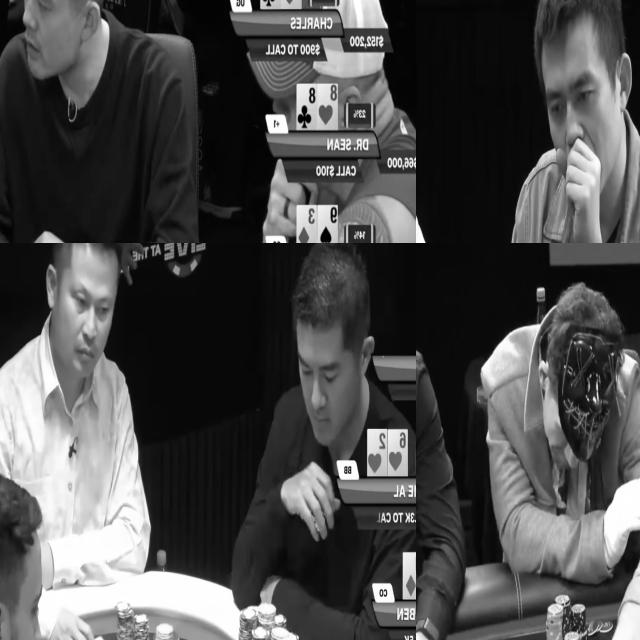2H: (368, 429, 387, 476)
3D: (297, 205, 317, 243)
6H: (388, 430, 408, 475)
8C: (297, 84, 316, 129)
8H: (317, 84, 338, 130)
9S: (317, 205, 337, 243)
JD: (402, 553, 416, 599)
